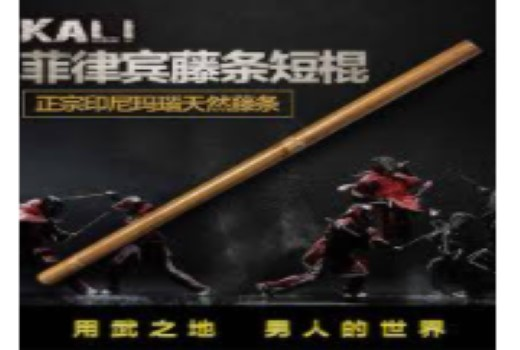baston_e: (51, 38, 459, 292)
baston_v: (450, 27, 482, 69), (29, 258, 58, 297)
